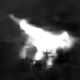plane: (8, 13, 80, 70)
